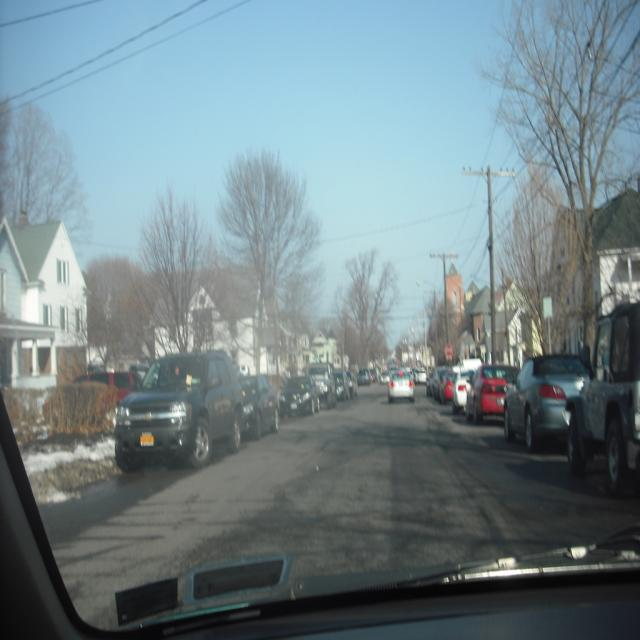car: (104, 329, 246, 476)
